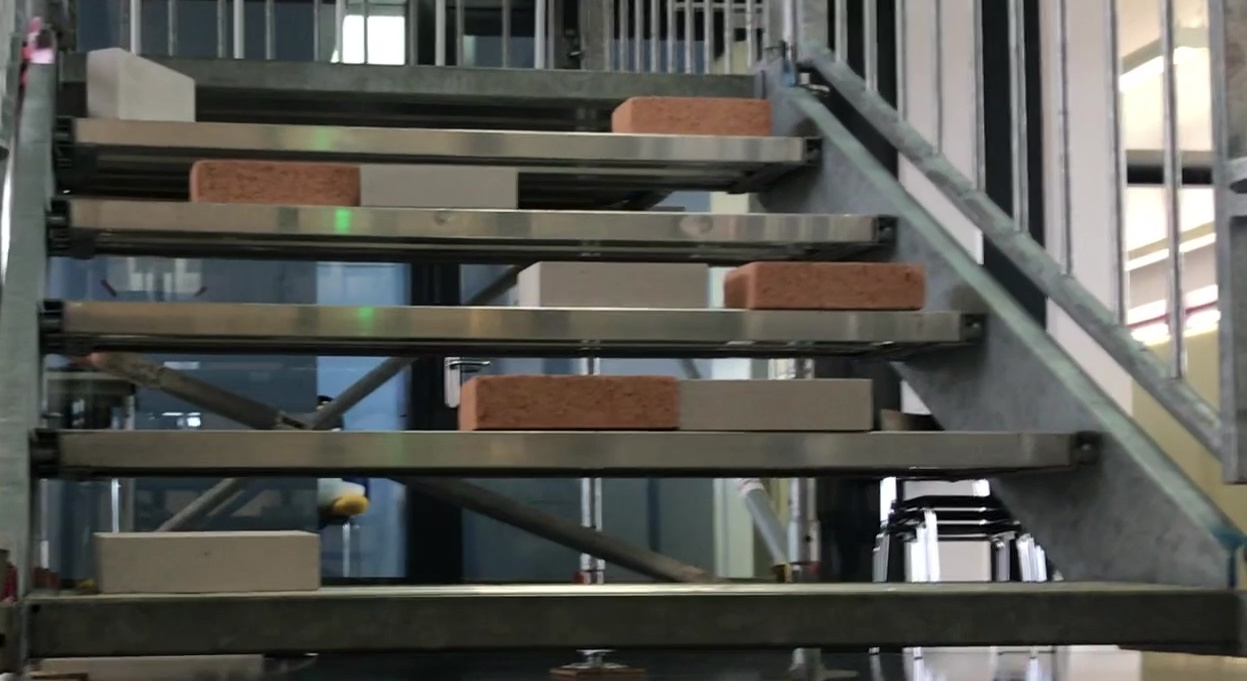brick: (93, 532, 319, 594), (460, 375, 674, 429), (684, 378, 870, 430), (725, 262, 925, 308), (520, 262, 709, 306), (87, 48, 194, 119), (189, 160, 357, 204), (362, 164, 515, 209), (610, 96, 769, 136)
edge: (32, 585, 1231, 645), (32, 428, 1103, 468), (49, 199, 898, 242), (40, 301, 985, 338), (54, 119, 824, 161)
